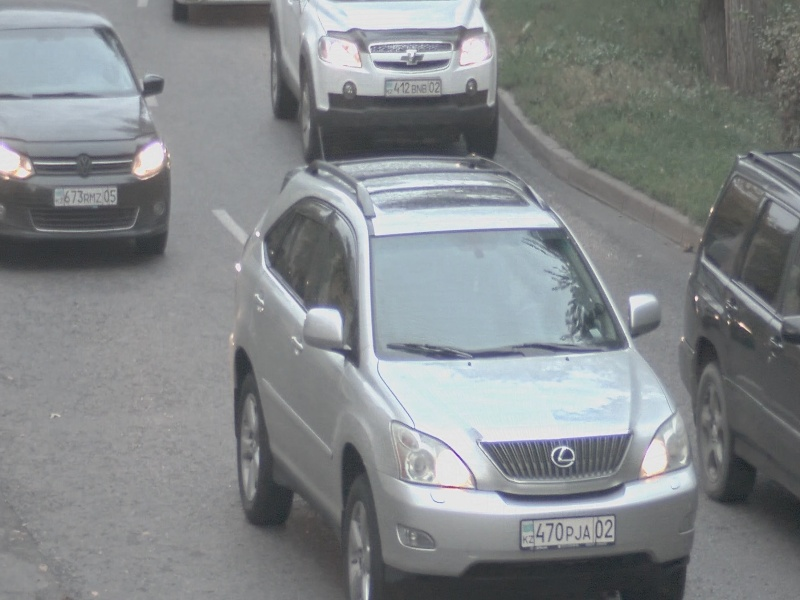plate: (519, 514, 617, 549), (53, 186, 119, 207), (384, 78, 442, 98)
